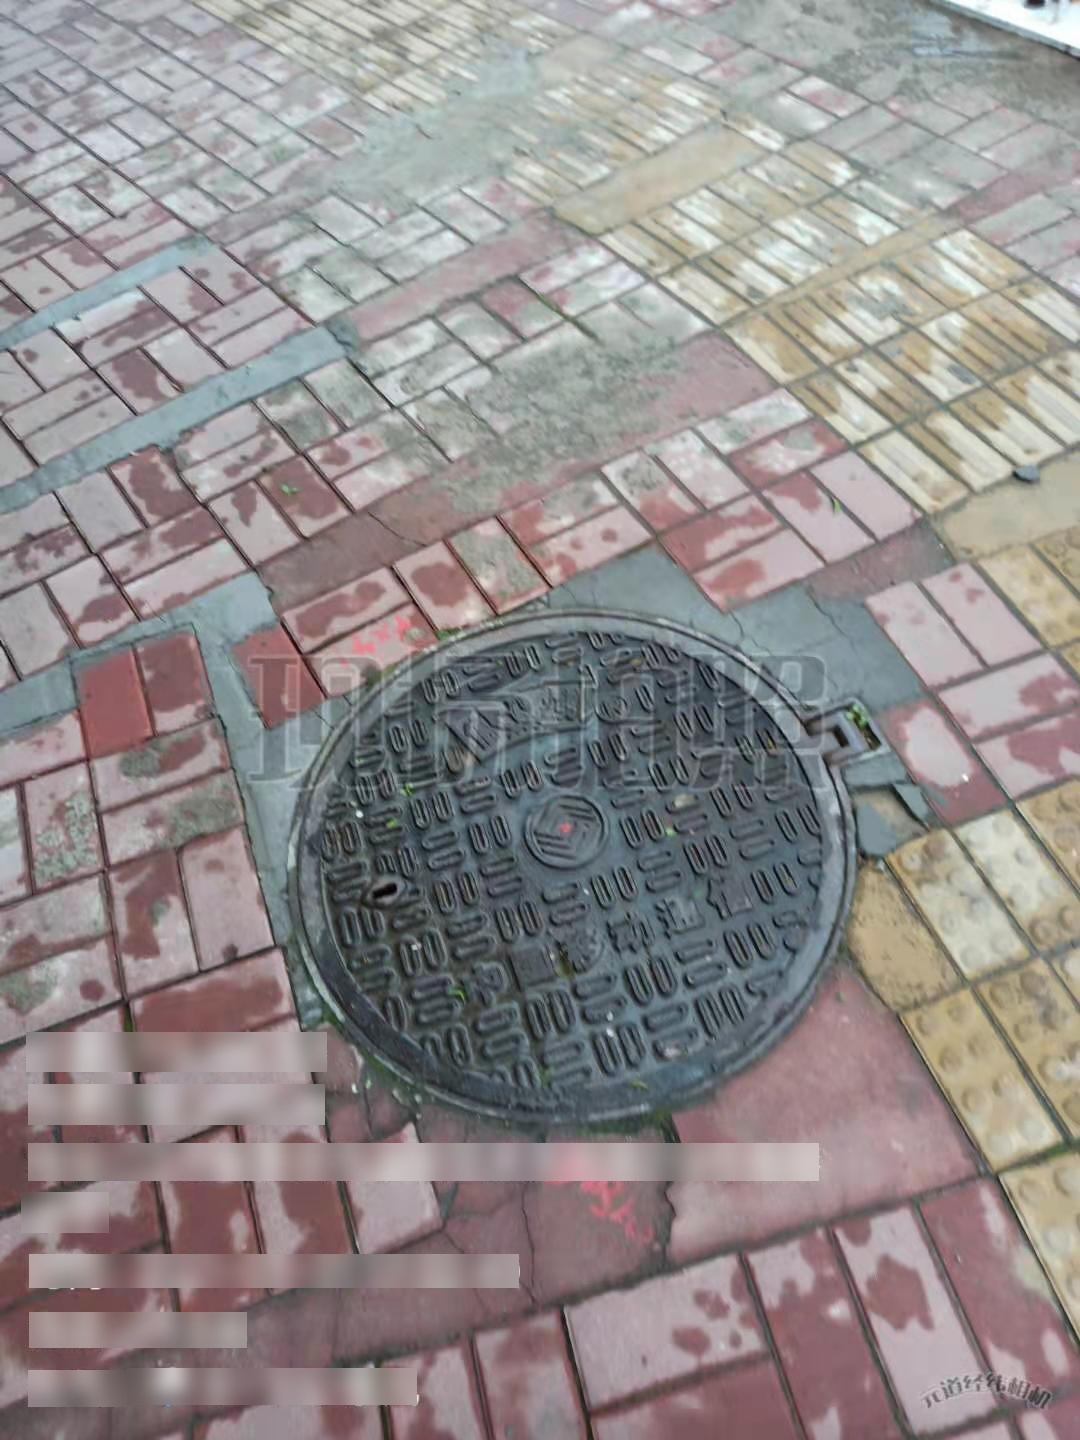good: (287, 608, 896, 1128)
